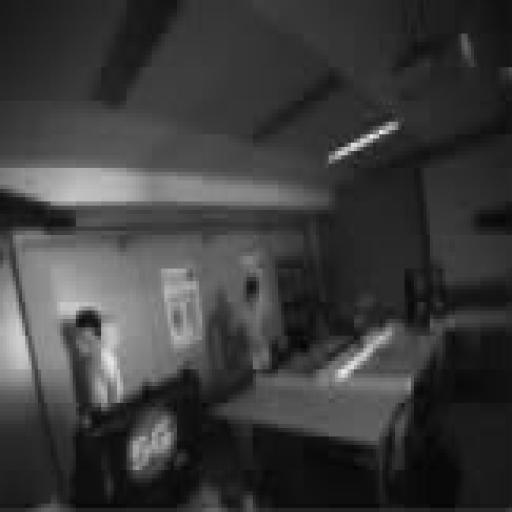human: (73, 307, 123, 411), (244, 277, 271, 373)
